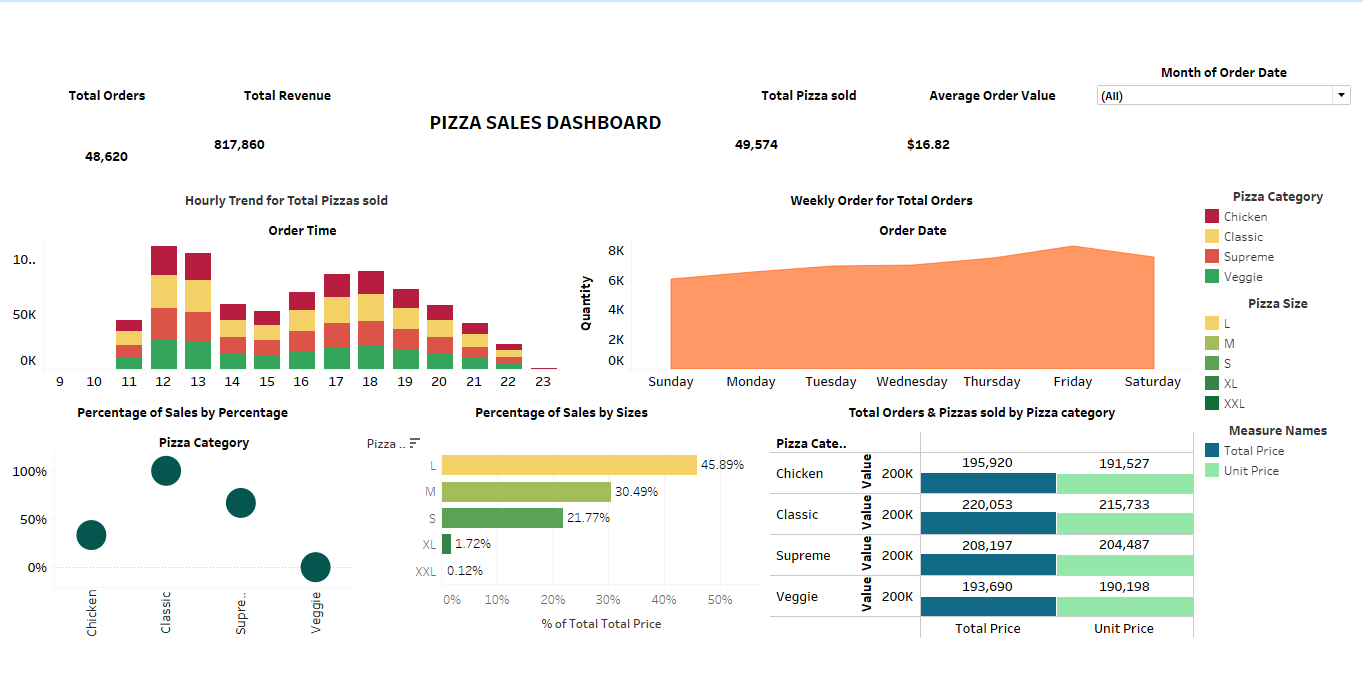

This screenshot's page, from the dashboard's own definition file:
{"tool":"tableau","page":{"name":"PIZZA SALES DASHBOARD","canvas":[1000,1000],"units":"permille","ordinal":0},"visuals":[{"type":"text","box":[6.7,15.2,145,117.2]},{"type":"text","box":[151.7,15.2,119.2,117.2]},{"type":"text","box":[270.8,15.2,258.3,205.9]},{"type":"text","box":[529.2,15.2,125.8,117.2]},{"type":"text","box":[655,15.2,142.5,117.2]},{"type":"filter","title":"Average Order Value","param":"[federated.1yx6il602nhn0a127lpwc18l7m81].[mn:order_date:ok]","box":[797.5,15.2,195.8,205.9]},{"type":"worksheet","title":"Total Orders","mark":"Automatic","box":[6.7,132.3,145,88.7]},{"type":"worksheet","title":"Total Revenue","mark":"Automatic","box":[151.7,132.3,119.2,88.7]},{"type":"worksheet","title":"Total Pizza sold","mark":"Automatic","box":[529.2,132.3,125.8,88.7]},{"type":"worksheet","title":"Average Order Value","mark":"Automatic","box":[655,132.3,142.5,88.7]},{"type":"worksheet","title":"Hourly Trend for Total Pizzas sold","mark":"Bar","rows":["total_price"],"cols":["order_time"],"box":[6.7,221,399.2,352]},{"type":"worksheet","title":"Weekly Order for Total Orders","mark":"Area","rows":["quantity"],"cols":["order_date"],"box":[405.8,221,454.2,352]},{"type":"legend","title":"Hourly Trend for Total Pizzas sold","param":"[federated.1yx6il602nhn0a127lpwc18l7m81].[none:pizza_category:nk]","box":[860,221,133.3,202.7]},{"type":"legend","title":"Percentage of Sales by Sizes","param":"[federated.1yx6il602nhn0a127lpwc18l7m81].[none:pizza_size:nk]","box":[860,423.7,133.3,240.5]},{"type":"worksheet","title":"Percentage of Sales by Percentage","mark":"Pie","rows":["total_price"],"cols":["pizza_category"],"box":[6.7,573.1,250,411.8]},{"type":"worksheet","title":"Percentage of Sales by Sizes","mark":"Bar","rows":["pizza_size"],"box":[256.7,573.1,293.3,411.8]},{"type":"worksheet","title":"Total Orders & Pizzas sold by Pizza category","mark":"Bar","rows":["pizza_category"],"box":[550,573.1,310,411.8]},{"type":"legend","title":"Total Orders & Pizzas sold by Pizza category","param":"[federated.1yx6il602nhn0a127lpwc18l7m81].[:Measure Names]","box":[860,664.2,133.3,126.9]}]}

Visuals, with their boxes on the dashboard's canvas, which has no fixed pixel size, in thousandths of its width and height (x1, y1, x2, y2). These are canvas units, not pixel positions in the 1363x683 screenshot, which may show the page scaled, cropped or inside an application window:
text: (7, 15, 152, 132)
text: (152, 15, 271, 132)
text: (271, 15, 529, 221)
text: (529, 15, 655, 132)
text: (655, 15, 798, 132)
"Average Order Value" filter: (798, 15, 993, 221)
"Total Orders" worksheet: (7, 132, 152, 221)
"Total Revenue" worksheet: (152, 132, 271, 221)
"Total Pizza sold" worksheet: (529, 132, 655, 221)
"Average Order Value" worksheet: (655, 132, 798, 221)
"Hourly Trend for Total Pizzas sold" worksheet (Bar marks): (7, 221, 406, 573)
"Weekly Order for Total Orders" worksheet (Area marks): (406, 221, 860, 573)
"Hourly Trend for Total Pizzas sold" legend: (860, 221, 993, 424)
"Percentage of Sales by Sizes" legend: (860, 424, 993, 664)
"Percentage of Sales by Percentage" worksheet (Pie marks): (7, 573, 257, 985)
"Percentage of Sales by Sizes" worksheet (Bar marks): (257, 573, 550, 985)
"Total Orders & Pizzas sold by Pizza category" worksheet (Bar marks): (550, 573, 860, 985)
"Total Orders & Pizzas sold by Pizza category" legend: (860, 664, 993, 791)
